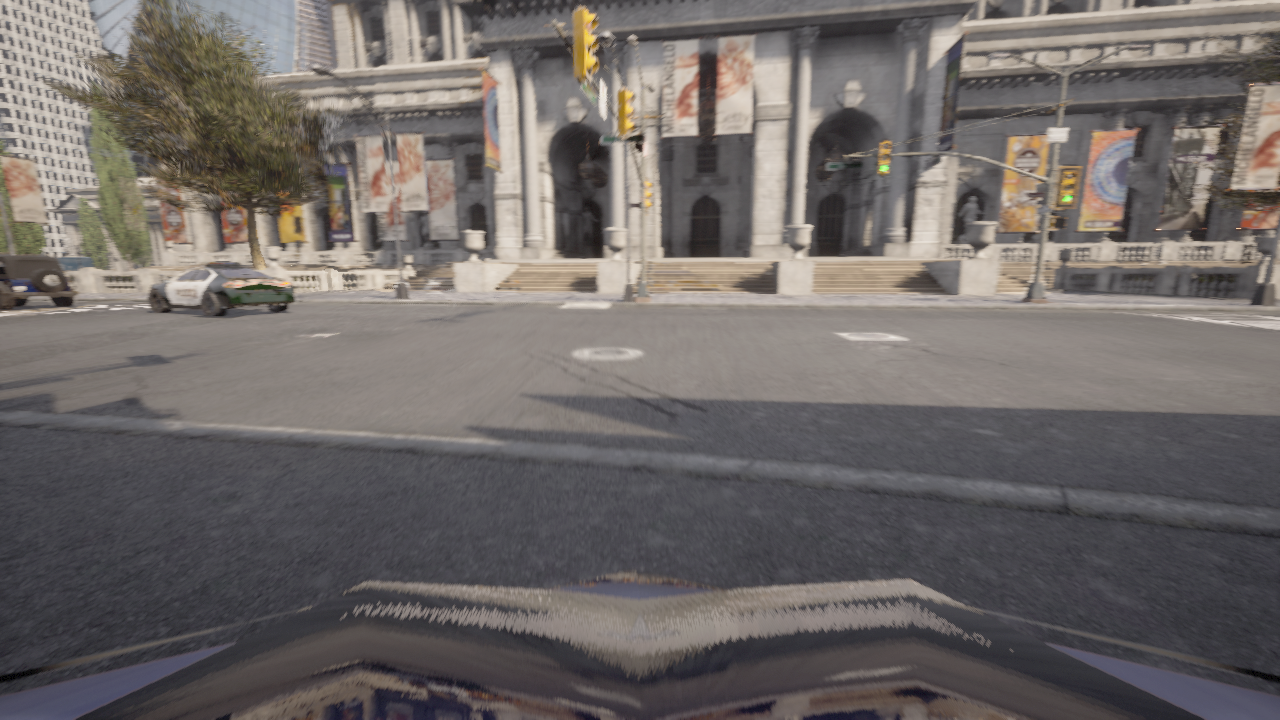cyclist: (0, 569, 1279, 719), (148, 263, 295, 316)
